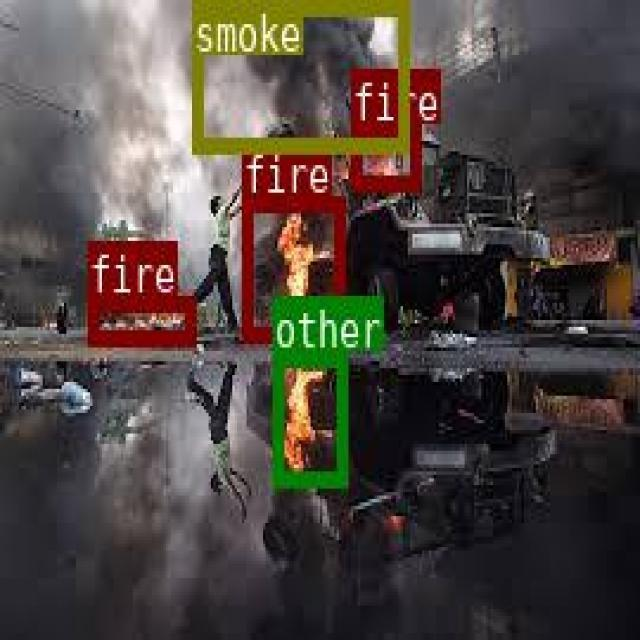fire: (240, 194, 343, 339), (86, 295, 195, 344), (349, 124, 419, 187)
smoke: (190, 0, 405, 148)
